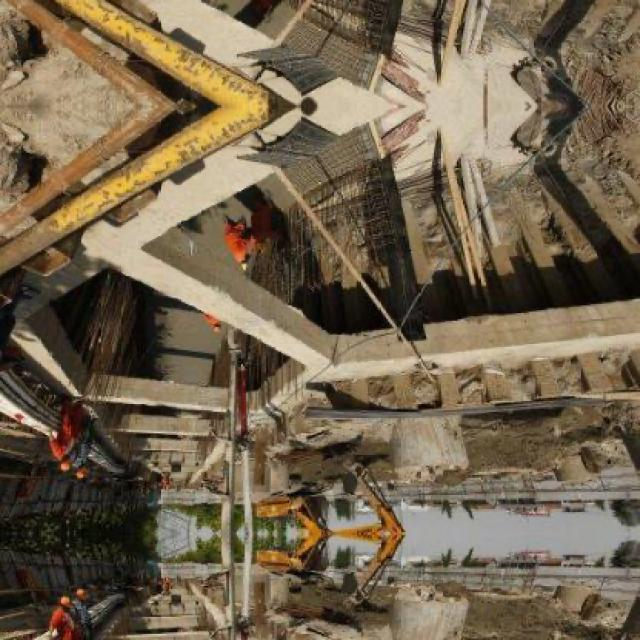con casco: (58, 448, 78, 479), (237, 253, 257, 277)
